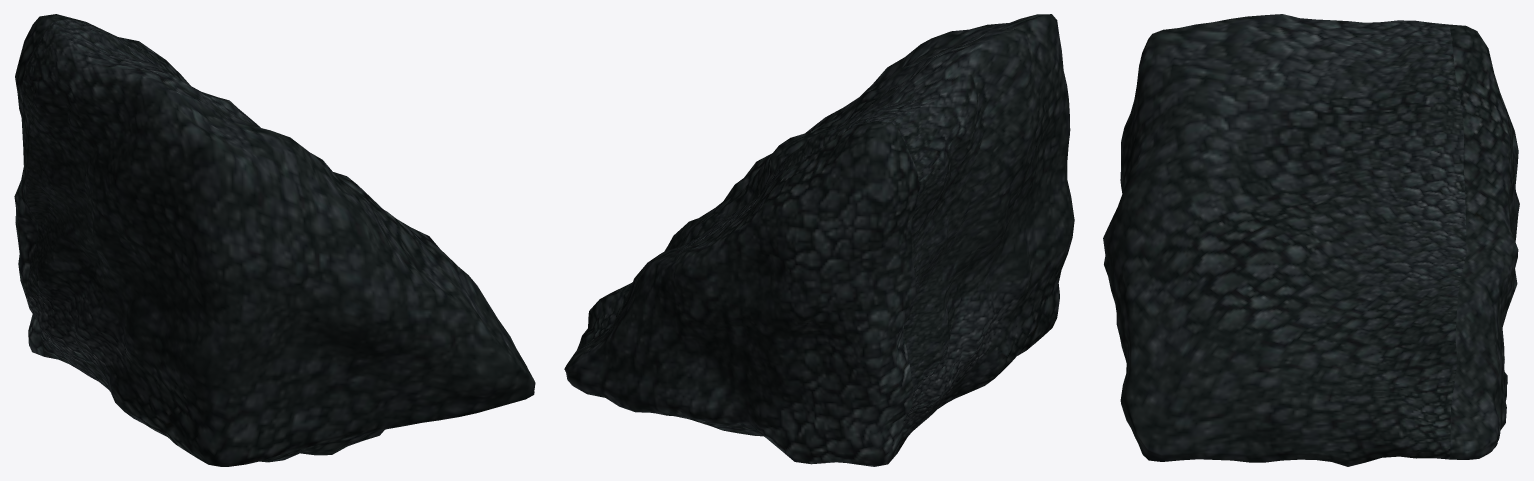
The model's file is rocky slope 2.fbx.
3 views of the same model, side by side, from view 1: azimuth 30°, elevation 25°; view 2: azimuth 150°, elevation 25°; view 3: azimuth 270°, elevation 25° (orthographic). The views are drawn at different scales.
Parts seen in each view (by area): view 1: pCube1; view 2: pCube1; view 3: pCube1.
Boxes of the visible parts, x1,y1,x2,y2 form: pCube1: (14, 14, 535, 466); pCube1: (564, 14, 1074, 466); pCube1: (1103, 14, 1519, 466).
Size of the model in its own units: 1157 by 1119 by 1237.
